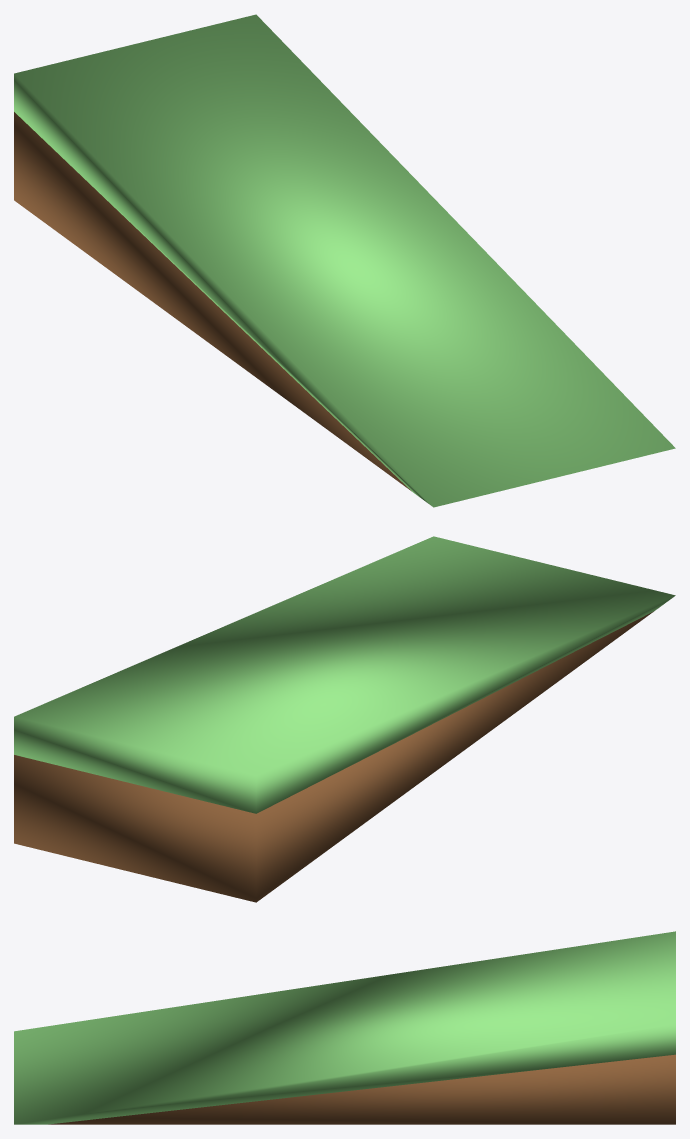
Rendered from Ramp - 0.5x3.glb.
3 renders of one model, top to bottom at view 1: azimuth 30°, elevation 25°; view 2: azimuth 150°, elevation 25°; view 3: azimuth 270°, elevation 25°, orthographic. The views are drawn at different scales.
Parts seen in each view (by area): view 1: Ramp 0.5x3; view 2: Ramp 0.5x3; view 3: Ramp 0.5x3.
Boxes of the visible parts, <box> form: Ramp 0.5x3: <box>14,14,675,507</box>; Ramp 0.5x3: <box>14,536,675,902</box>; Ramp 0.5x3: <box>14,931,675,1124</box>.
Size of the model in its own units: 2 by 1 by 6.
